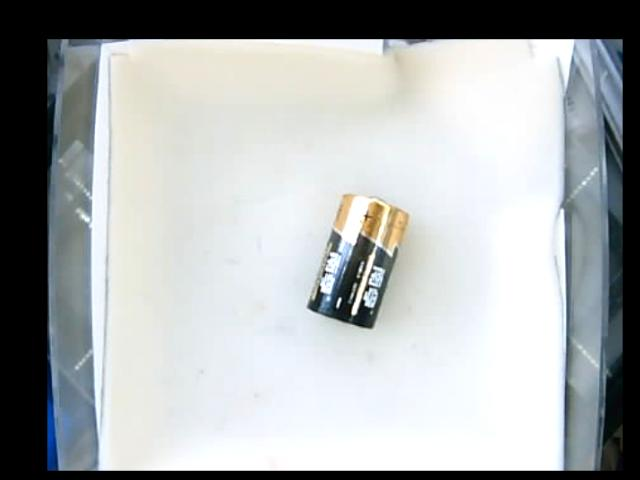Battery: (304, 195, 410, 332)
